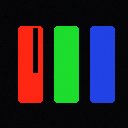4 line_v: (33, 28, 37, 72)
